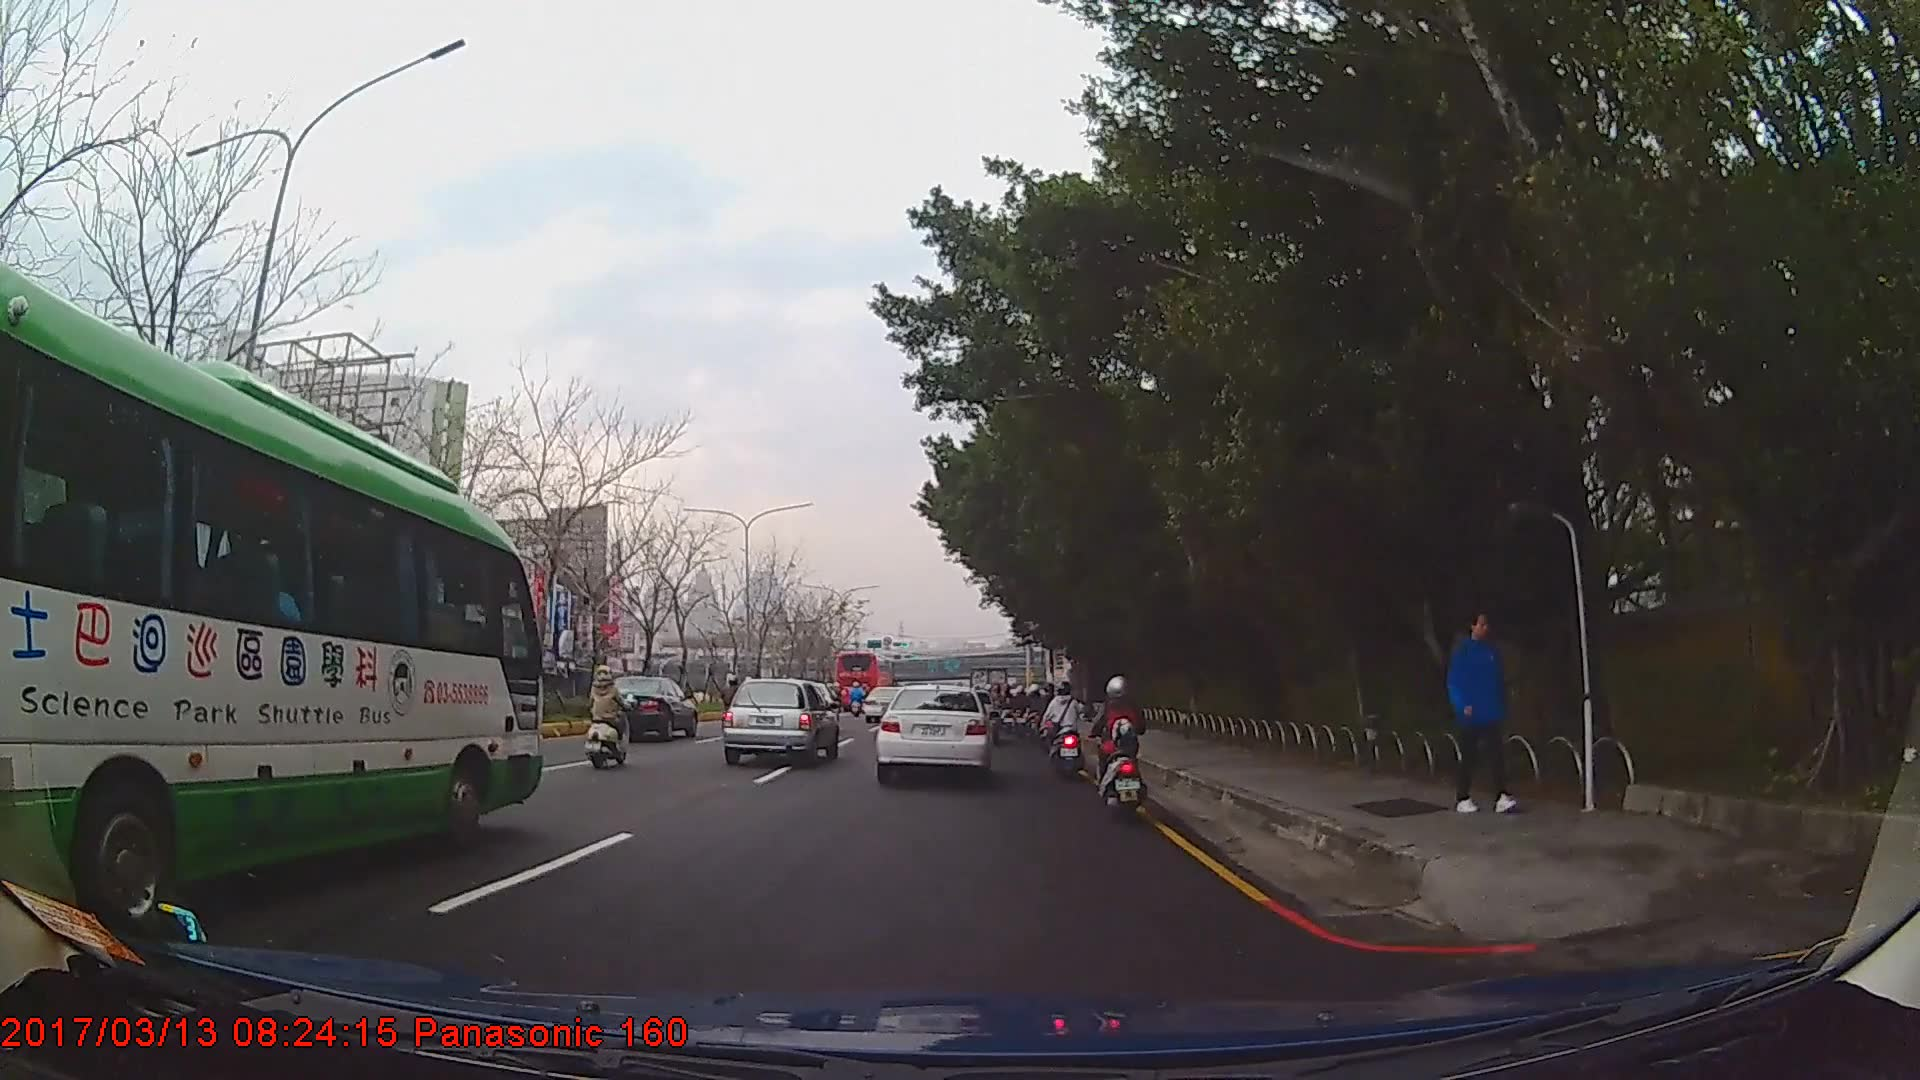pedestrian: (1447, 608, 1511, 815)
rider: (1095, 675, 1147, 821), (587, 662, 635, 770), (1043, 675, 1086, 776), (1038, 683, 1059, 753), (722, 674, 745, 726)
vehicle: (0, 252, 543, 949), (876, 679, 993, 780), (722, 674, 839, 765), (595, 674, 697, 739), (830, 646, 898, 707)
